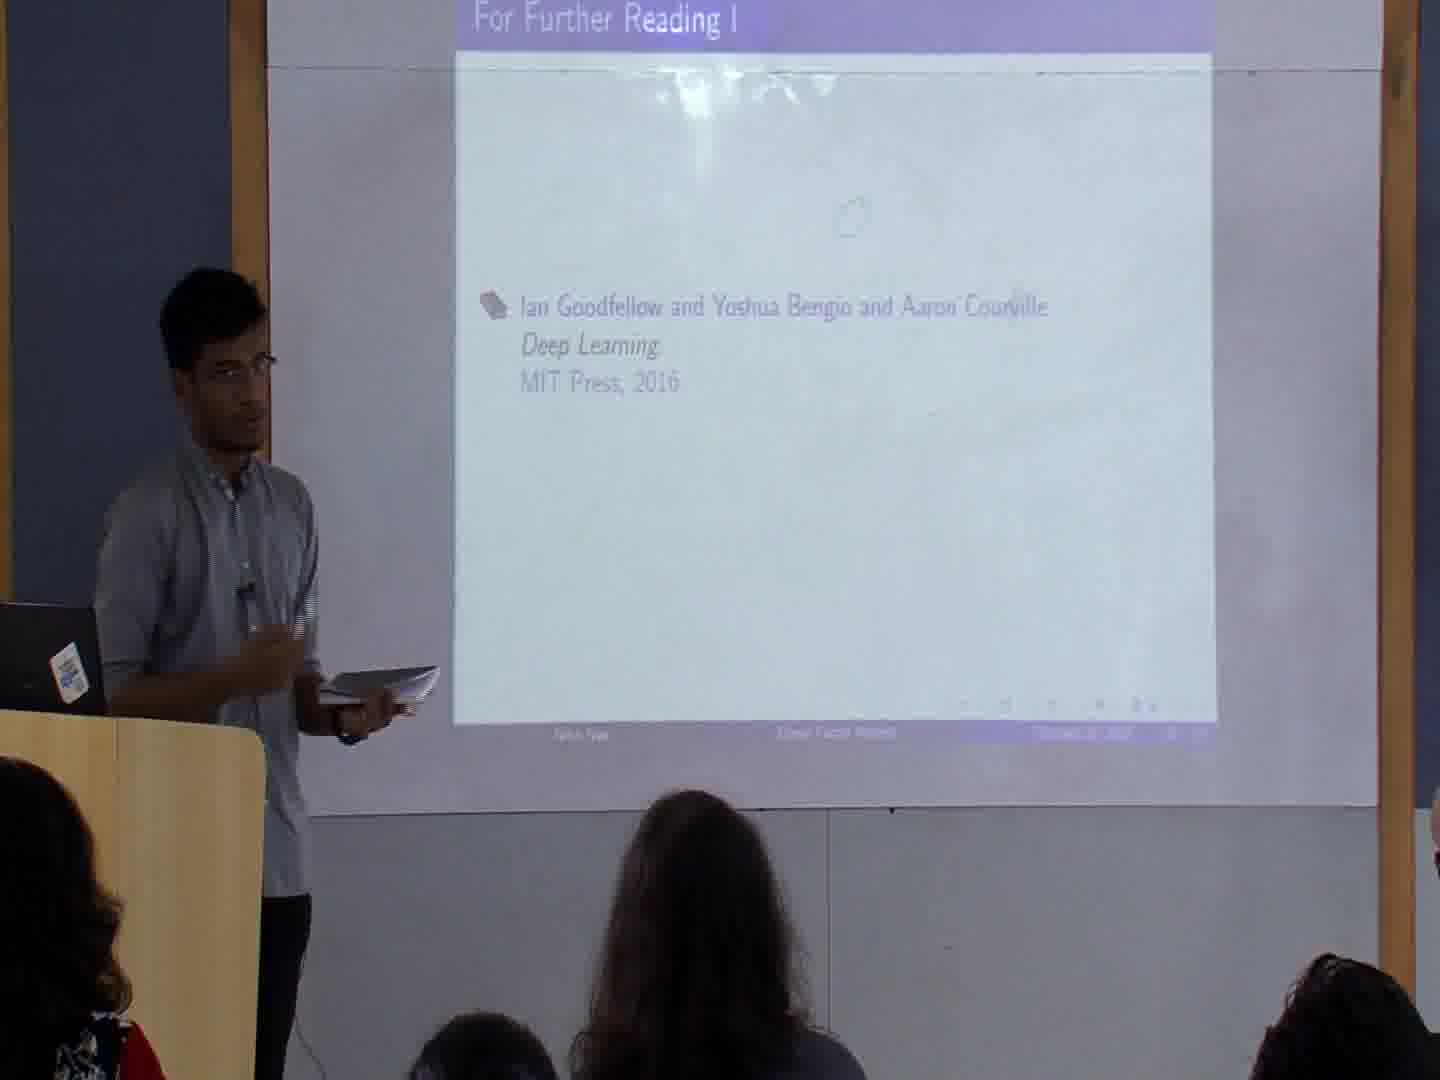slide: (452, 1, 1215, 744)
